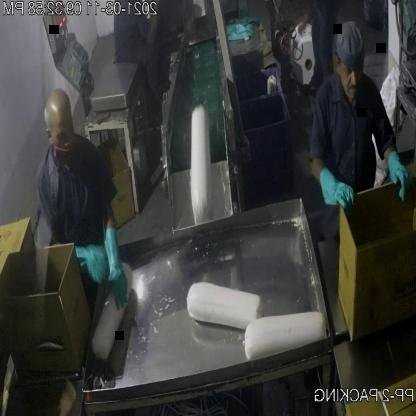glove: (311, 163, 361, 223), (102, 223, 127, 305)
